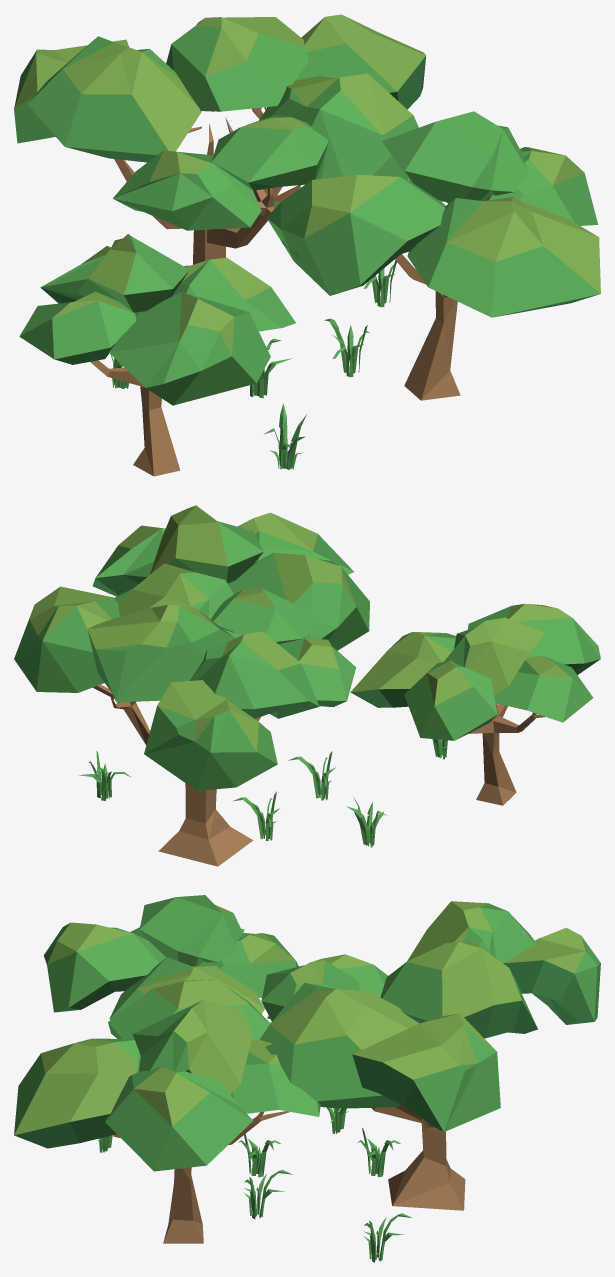
Rendered from tree-native.fbx.
The picture shows the model from 3 angles, top to bottom: view 1: azimuth 30°, elevation 25°; view 2: azimuth 150°, elevation 25°; view 3: azimuth 270°, elevation 25°; orthographic projection. The views are drawn at different scales.
Visible parts, largest first — view 1: Cube.002; view 2: Cube.002; view 3: Cube.002.
Part boxes in pixels (<box>): Cube.002: <box>14,14,600,476</box>; Cube.002: <box>14,505,600,866</box>; Cube.002: <box>14,895,600,1262</box>.
Size of the model in its own units: 6497 by 3210 by 6423.
